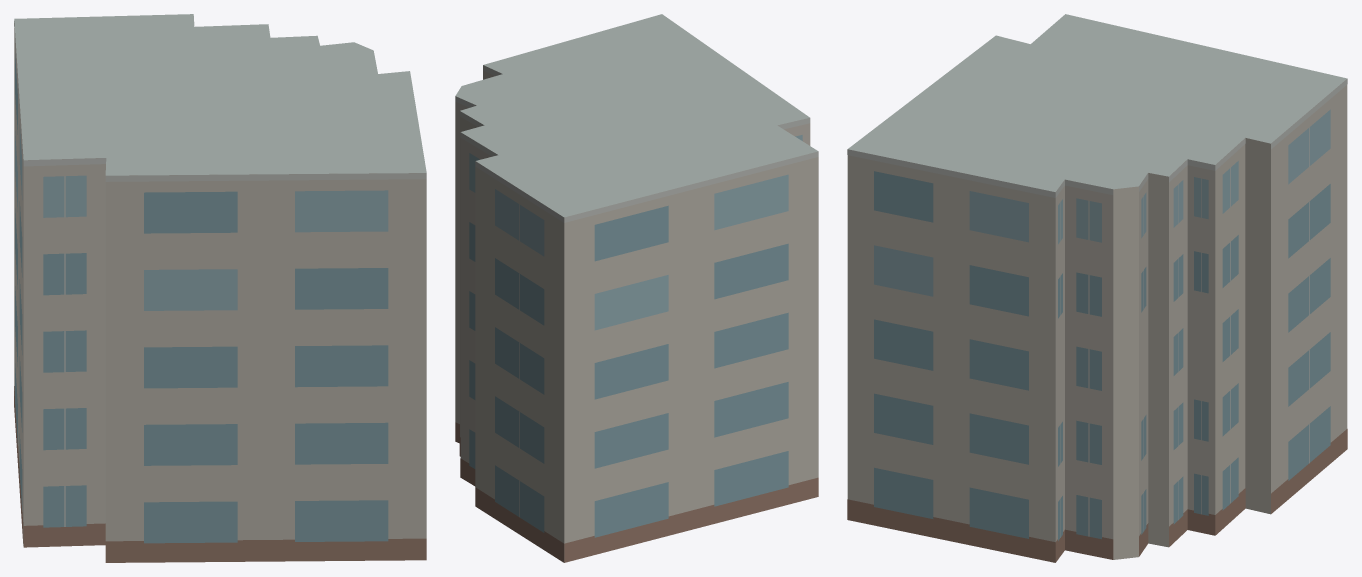
The model's file is survey-upis-32889473.glb.
The picture shows the model from 3 angles, left to right: view 1: azimuth 30°, elevation 25°; view 2: azimuth 150°, elevation 25°; view 3: azimuth 270°, elevation 25°; orthographic projection. The views are drawn at different scales.
Parts seen in each view (by area): view 1: survey-upis-32889473.tmp; view 2: survey-upis-32889473.tmp; view 3: survey-upis-32889473.tmp.
Part boxes in pixels (<box>): survey-upis-32889473.tmp: <box>14,14,426,562</box>; survey-upis-32889473.tmp: <box>455,14,818,562</box>; survey-upis-32889473.tmp: <box>847,14,1347,562</box>.
Bounding box in the file's own units: 15.73 × 15.25 × 18.65.
